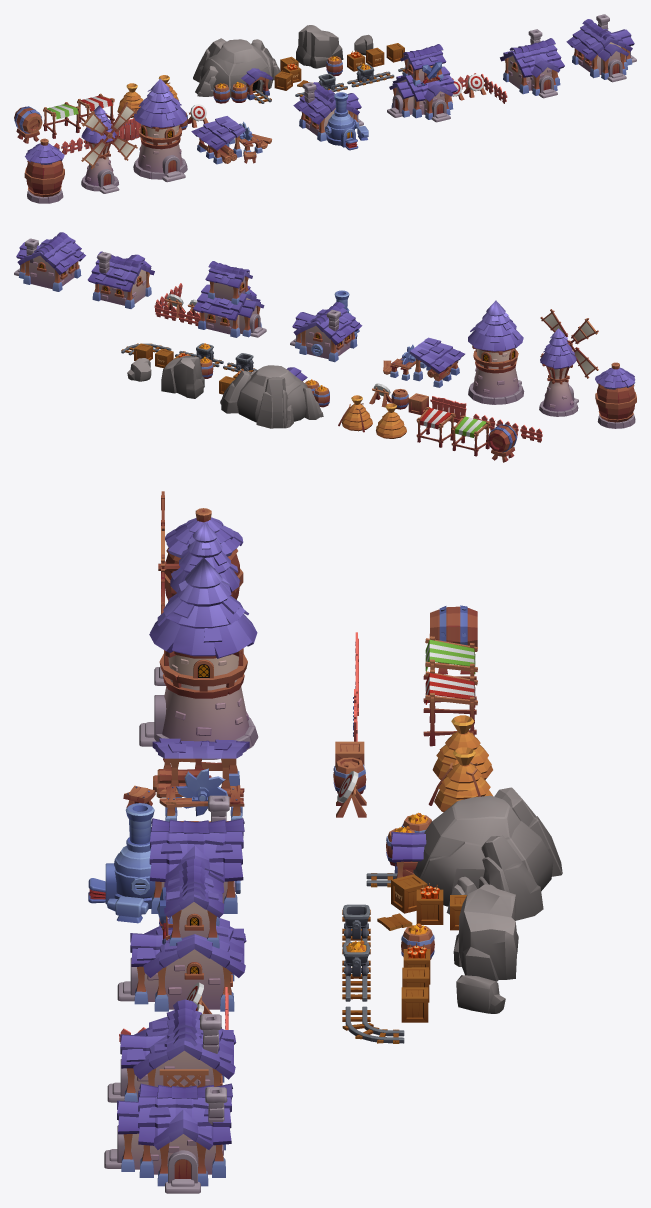
Rendered from medieval_village_pack.glb.
3 views of the same model, one above another, from view 1: azimuth 30°, elevation 25°; view 2: azimuth 150°, elevation 25°; view 3: azimuth 270°, elevation 25° (orthographic). The views are drawn at different scales.
Parts seen in each view (by area): view 1: mine, weapons_shop, magic_tower, smithy, house_2, windmill, house_1, sawmill, grain_storage, rock_1, beer_barrel, tent_2 (+10 smaller); view 2: mine, weapons_shop, magic_tower, windmill, smithy, house_2, house_1, sawmill, grain_storage, rock_1, tent_2, tent_1 (+6 smaller); view 3: mine, magic_tower, weapons_shop, smithy, house_2, house_1, sawmill, rock_1, windmill, grain_storage, tent_1, hay_1 (+6 smaller).
Part boxes in pixels (x1=…): mine: x1=193, y1=38, x2=312, y2=103; weapons_shop: x1=387, y1=44, x2=507, y2=122; magic_tower: x1=133, y1=78, x2=187, y2=182; smithy: x1=293, y1=82, x2=368, y2=150; house_2: x1=566, y1=14, x2=636, y2=82; windmill: x1=81, y1=102, x2=137, y2=193; house_1: x1=500, y1=29, x2=564, y2=98; sawmill: x1=191, y1=116, x2=271, y2=164; grain_storage: x1=24, y1=138, x2=64, y2=203; rock_1: x1=296, y1=25, x2=343, y2=68; beer_barrel: x1=14, y1=106, x2=42, y2=143; tent_2: x1=43, y1=102, x2=80, y2=138; mine: x1=219, y1=365, x2=329, y2=428; weapons_shop: x1=154, y1=261, x2=266, y2=337; magic_tower: x1=468, y1=300, x2=524, y2=404; windmill: x1=539, y1=309, x2=598, y2=416; smithy: x1=290, y1=290, x2=362, y2=362; house_2: x1=14, y1=232, x2=85, y2=291; house_1: x1=87, y1=251, x2=154, y2=308; sawmill: x1=383, y1=337, x2=464, y2=387; grain_storage: x1=595, y1=362, x2=636, y2=428; rock_1: x1=161, y1=355, x2=204, y2=398; tent_2: x1=451, y1=415, x2=490, y2=456; tent_1: x1=416, y1=407, x2=455, y2=447; mine: x1=366, y1=787, x2=562, y2=930; magic_tower: x1=139, y1=557, x2=258, y2=759; weapons_shop: x1=117, y1=858, x2=246, y2=1041; smithy: x1=88, y1=795, x2=244, y2=923; house_2: x1=104, y1=1083, x2=232, y2=1193; house_1: x1=107, y1=999, x2=236, y2=1102; sawmill: x1=123, y1=738, x2=249, y2=822; rock_1: x1=453, y1=884, x2=518, y2=981; windmill: x1=154, y1=491, x2=240, y2=685; grain_storage: x1=165, y1=508, x2=243, y2=601; tent_1: x1=423, y1=669, x2=477, y2=746; hay_1: x1=428, y1=747, x2=492, y2=812.
Size of the model in its own units: 29.85 by 4.35 by 10.21.
3 materials, 3 textured.
